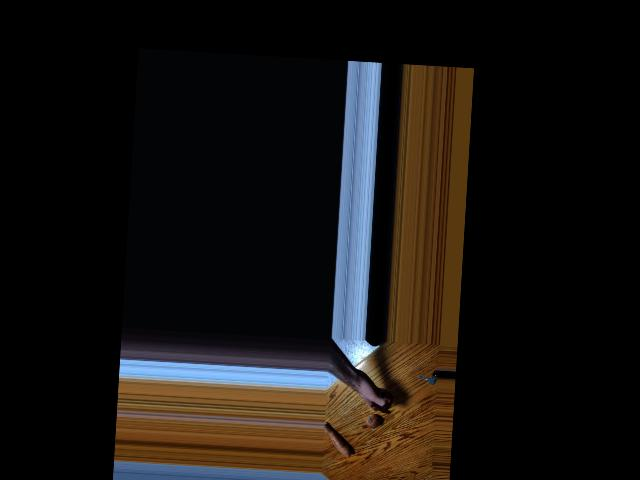onion: (365, 411, 380, 430)
